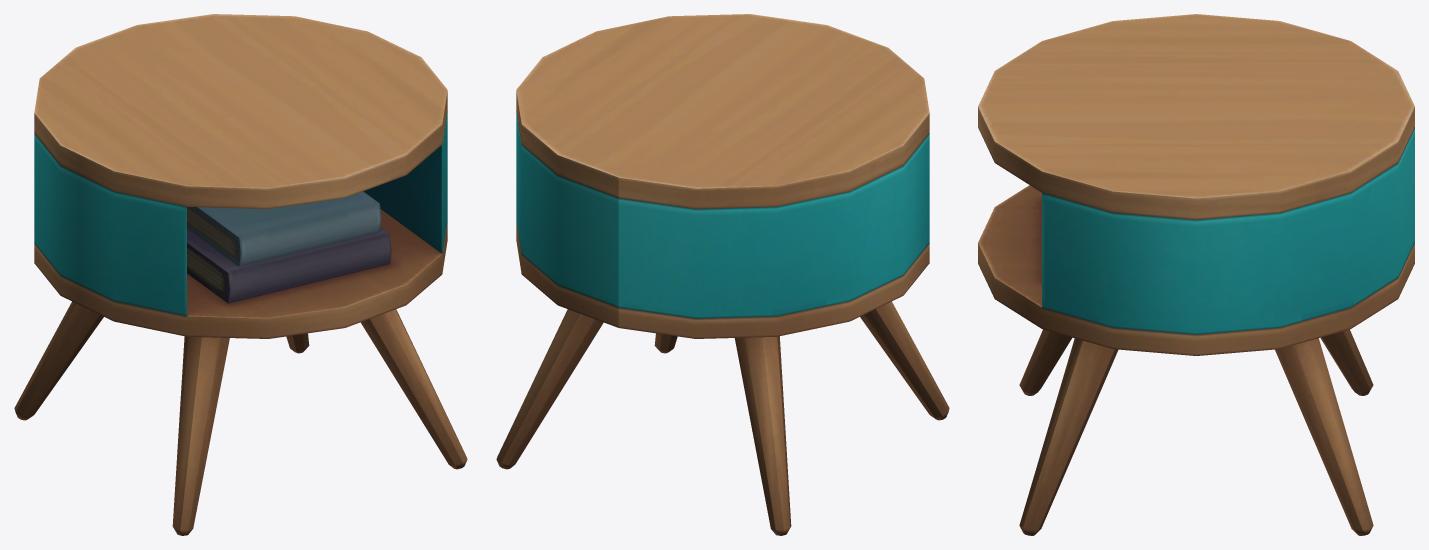
3 views of the same model, side by side, from view 1: azimuth 30°, elevation 25°; view 2: azimuth 150°, elevation 25°; view 3: azimuth 270°, elevation 25° (orthographic). The views are drawn at different scales.
Parts seen in each view (by area): view 1: TinyLiving_NotATableEnd_43; view 2: TinyLiving_NotATableEnd_43; view 3: TinyLiving_NotATableEnd_43.
Part boxes in pixels (bbox=[...]): TinyLiving_NotATableEnd_43: bbox=[14, 14, 467, 535]; TinyLiving_NotATableEnd_43: bbox=[496, 14, 949, 535]; TinyLiving_NotATableEnd_43: bbox=[978, 14, 1414, 535].
Size of the model in its own units: 0.6392 by 0.5791 by 0.6392.
1 material, 1 textured.
